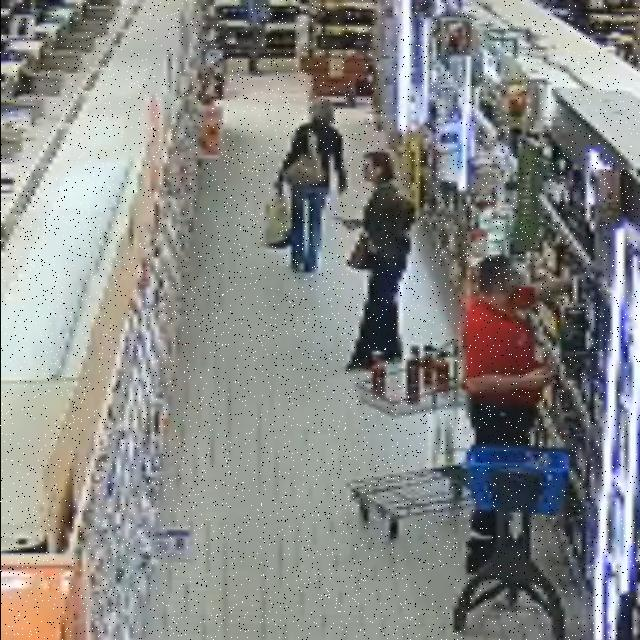bags: (283, 132, 325, 186), (264, 195, 291, 248), (347, 234, 371, 270)
hands: (523, 366, 555, 390), (337, 218, 362, 230), (274, 181, 283, 197), (338, 184, 346, 195)
person: (463, 256, 570, 446), (344, 151, 414, 370), (277, 100, 346, 272)
